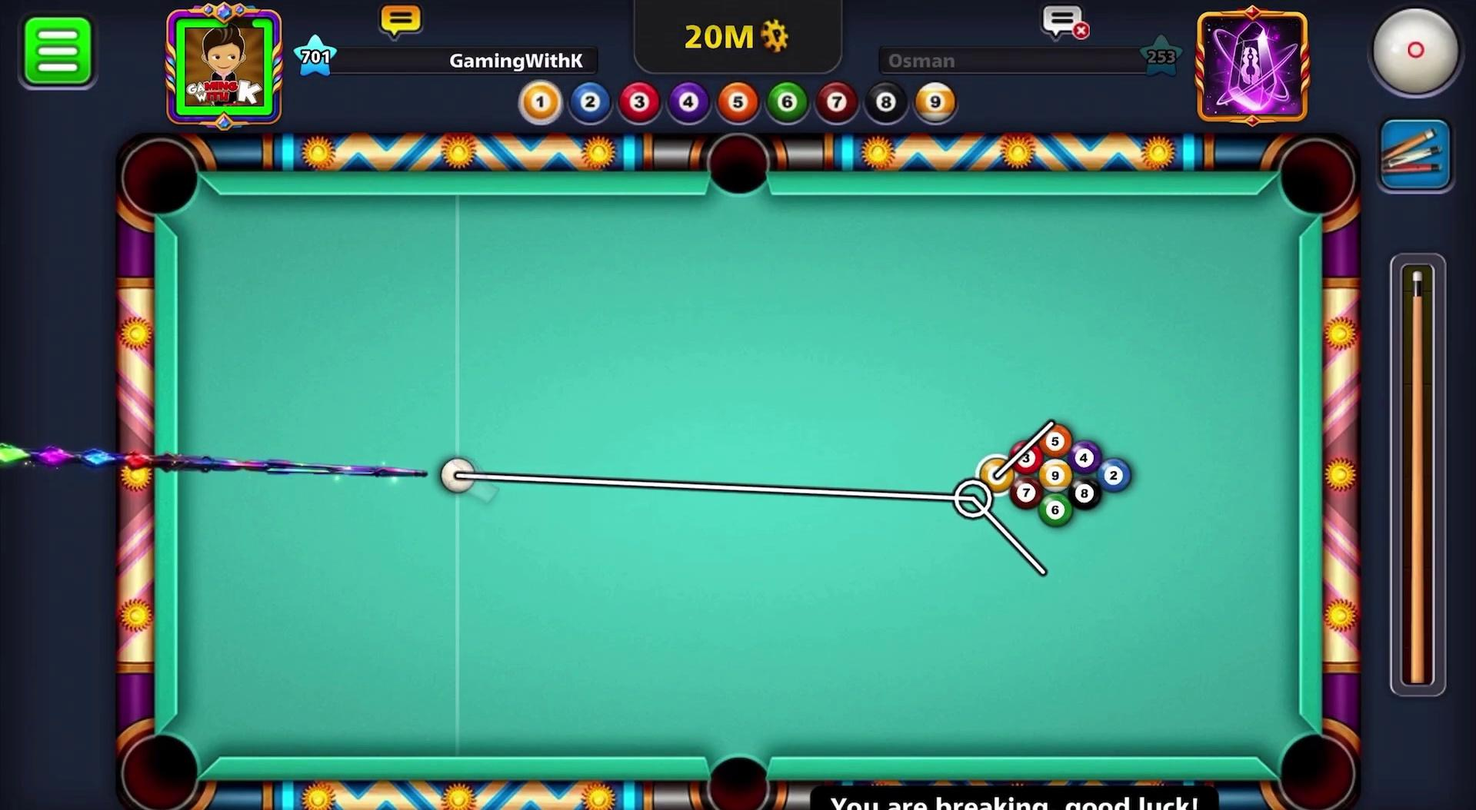Ball: (975, 455, 1017, 496), (1005, 438, 1046, 479), (1035, 492, 1077, 531), (1034, 419, 1073, 459), (1007, 473, 1044, 512), (1096, 456, 1132, 493), (1064, 439, 1103, 473), (1035, 460, 1076, 492), (1066, 476, 1101, 511)
Force: (1386, 254, 1453, 704)
Guideline: (457, 416, 1061, 581)
Hole: (108, 128, 213, 231), (1270, 130, 1365, 231), (1266, 718, 1364, 808), (111, 724, 208, 809), (686, 737, 783, 808), (701, 124, 776, 204)
Play_Area: (180, 193, 1296, 762)
Spin: (1346, 0, 1475, 112)
White: (429, 453, 478, 499)
